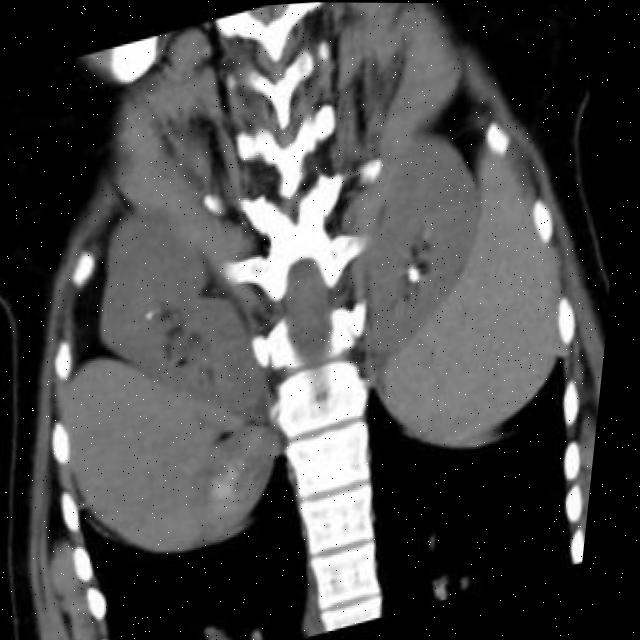Tas_Var: (410, 262, 432, 289), (151, 309, 166, 324)
